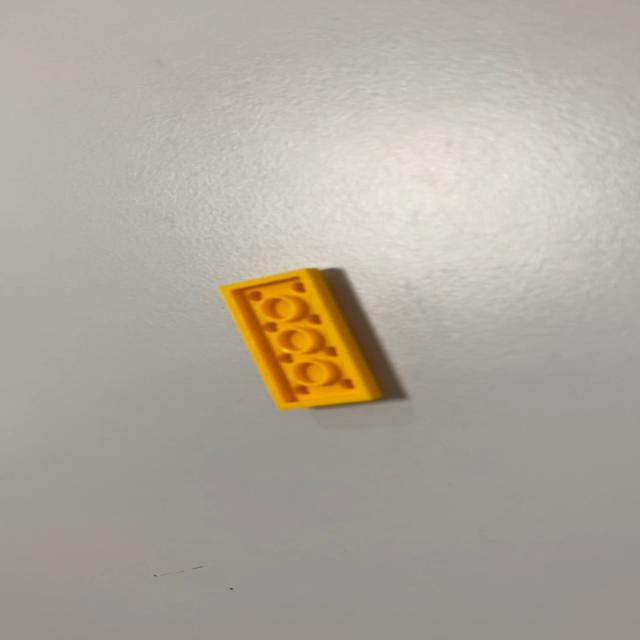C4x2x0: (217, 266, 384, 411)
